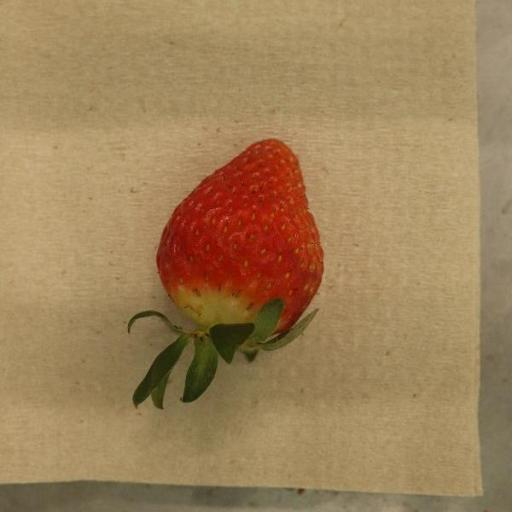Strawberry: (125, 139, 324, 410)
